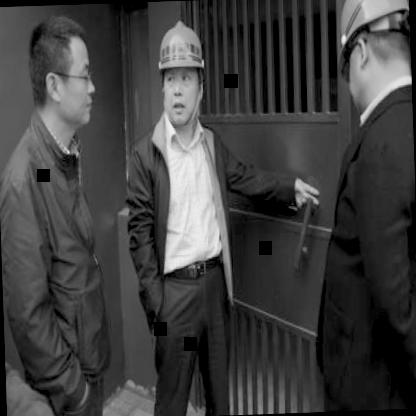head: (26, 8, 99, 137)
helmet: (329, 0, 412, 116), (151, 17, 212, 133)
